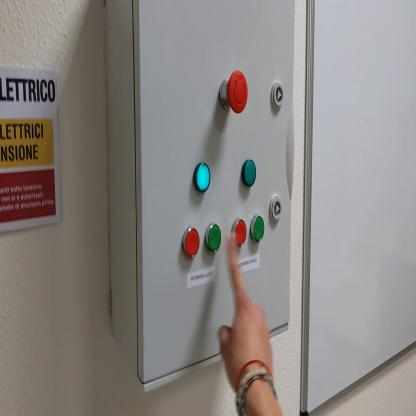hand: (215, 232, 276, 385)
left green button: (207, 226, 224, 253)
left red button: (183, 228, 201, 258)
right green button: (251, 217, 265, 242)
right red button: (233, 220, 248, 249)
